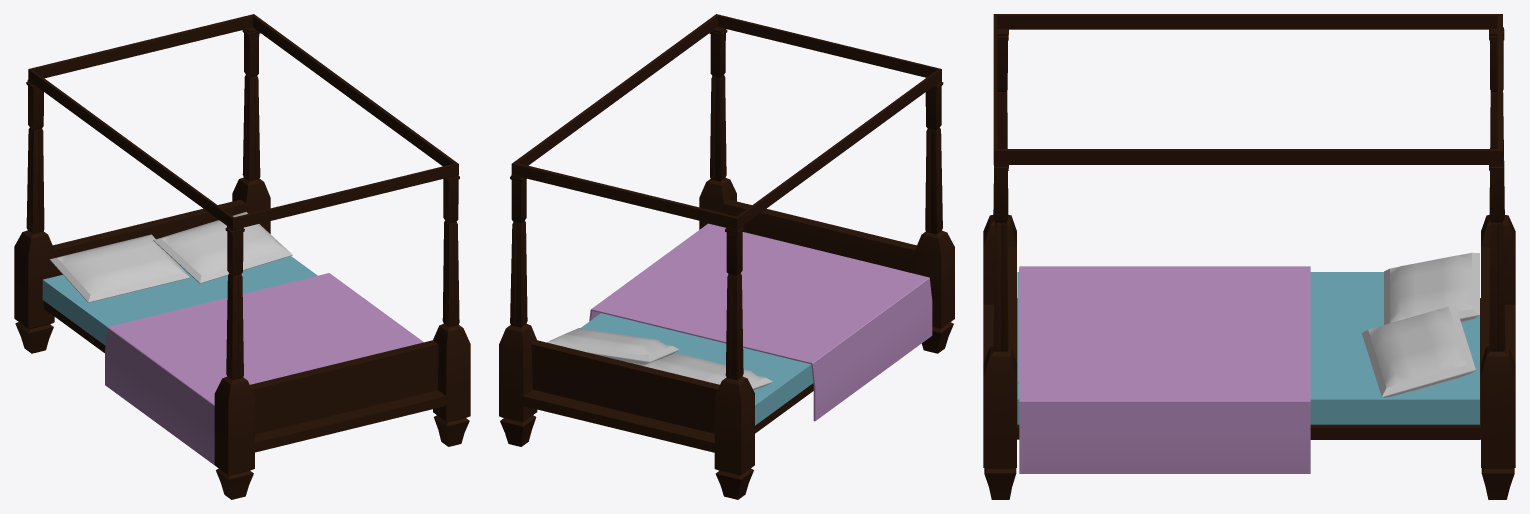
The model's file is Bed.fbx.
The picture shows the model from 3 angles, left to right: view 1: azimuth 30°, elevation 25°; view 2: azimuth 150°, elevation 25°; view 3: azimuth 270°, elevation 25°; orthographic projection. The views are drawn at different scales.
Visible parts, largest first — view 1: Bedpost; view 2: Bedpost; view 3: Bedpost.
Part boxes in pixels (x1,y1,x2,y2): Bedpost: [14, 14, 470, 499]; Bedpost: [499, 14, 954, 499]; Bedpost: [983, 14, 1515, 499].
Size of the model in its own units: 4.89 by 5.4 by 7.48.
